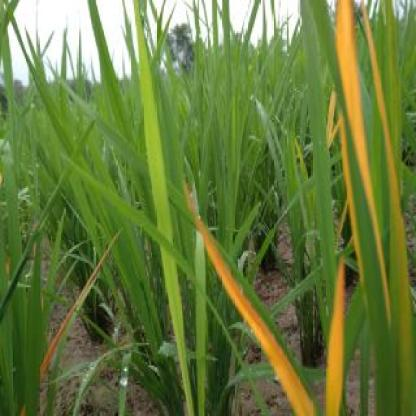Tungro: (332, 9, 403, 344)
